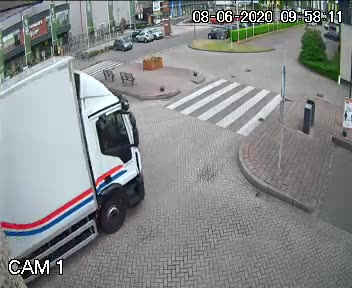car: (0, 35, 159, 287)
